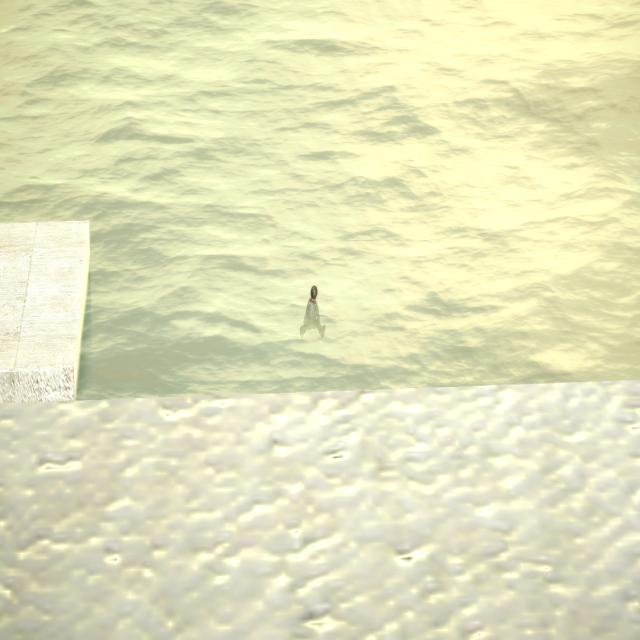Human: (297, 283, 329, 341)
